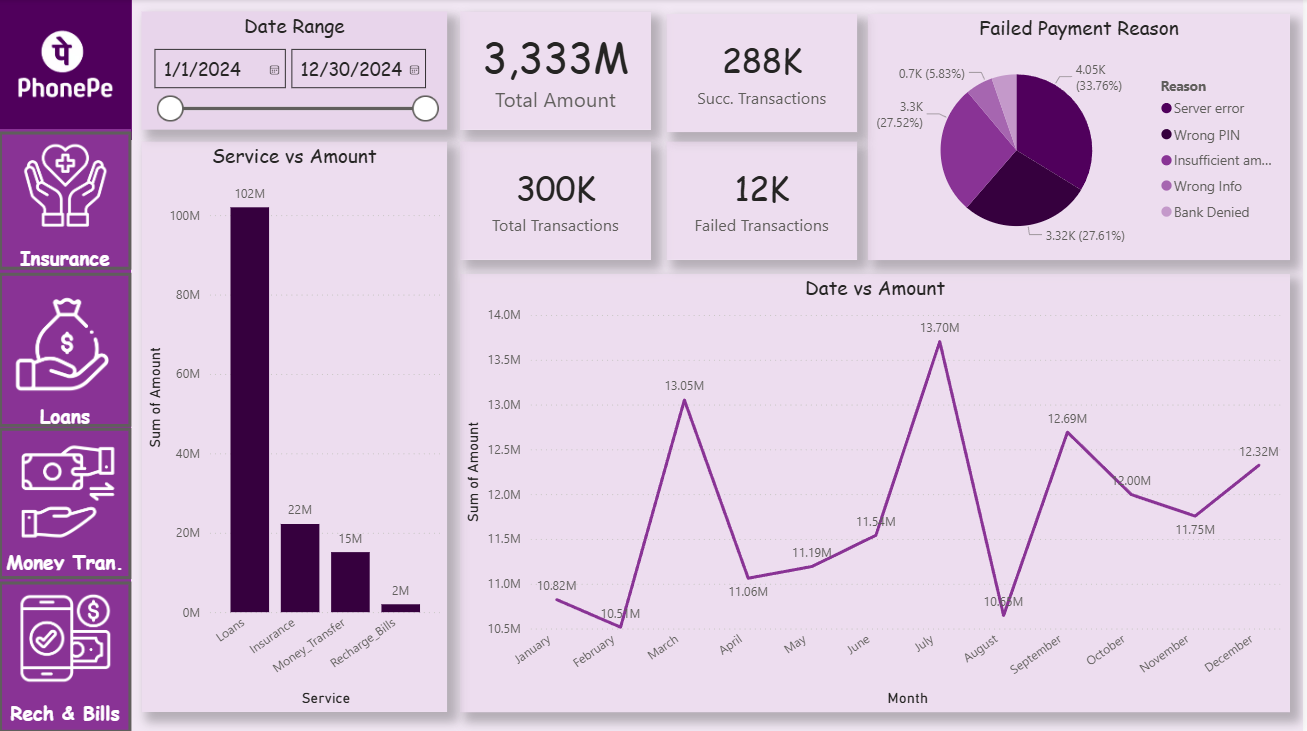

The page's visual inventory and layout, read from the dashboard file:
{"tool":"powerbi","page":{"name":"Home","canvas":[1280,720],"ordinal":0},"visuals":[{"type":"shape","box":[0,0,130,138.3],"z":0,"group":"g1"},{"type":"slicer","title":"Date Range","fields":{"Values":["All_Transactions.Date"]},"box":[140,12.9,300,115.7],"z":0},{"type":"cardVisual","title":"Total Transaction Amount","fields":{"Data":["Sum(All_Transactions.Amount)"]},"box":[452.9,12.9,187.1,115.7],"z":1000},{"type":"shape","box":[0,128.2,129.6,146.5],"z":1000,"group":"g2"},{"type":"cardVisual","title":"Total Transaction Amount","fields":{"Data":["Count(All_Transactions.Transaction_ID)"]},"box":[452.9,140,187.1,115.7],"z":2000},{"type":"shape","box":[0,266.2,129.6,162],"z":2000,"group":"g3"},{"type":"cardVisual","title":"Total Transaction Amount","fields":{"Data":["Count(All_Transactions.Transaction_ID)"]},"box":[655.7,14.3,187.1,115.7],"z":3000},{"type":"shape","box":[0,418.3,129.6,152.1],"z":3000,"group":"g4"},{"type":"cardVisual","title":"Total Transaction Amount","fields":{"Data":["Count(All_Transactions.Transaction_ID)"]},"box":[655.7,140,187.1,115.7],"z":4000},{"type":"shape","box":[0,560.6,129.6,159.2],"z":4000,"group":"g5"},{"type":"pieChart","title":"Failed Payment Reason","fields":{"Category":["All_Transactions.Reason"],"Y":["CountNonNull(All_Transactions.Reason)"]},"box":[852.9,14.3,414.3,241.4],"z":5000},{"type":"image","box":[15,15,100,103.3],"z":5000,"group":"g1"},{"type":"lineChart","title":"Date vs Amount","fields":{"Category":["All_Transactions.Date.Variation.Date Hierarchy.Month"],"Y":["Sum(All_Transactions.Amount)"]},"box":[452.9,270,814.3,430],"z":6000},{"type":"image","box":[14.1,571.9,102.8,111.3],"z":6000,"group":"g5"},{"type":"clusteredColumnChart","title":"Service vs Amount","fields":{"Y":["Sum(All_Transactions.Amount)"],"Category":["All_Transactions.Service"]},"box":[140,140,300,560],"z":7000},{"type":"image","box":[12.7,284.5,102.8,105.6],"z":7000,"group":"g3"},{"type":"group","id":"g1","title":"Group 1","box":[0,0,130,138.3],"z":8000},{"type":"image","box":[15.5,128.2,98.6,109.9],"z":8000,"group":"g2"},{"type":"group","id":"g2","title":"Group 2","box":[0,128.2,129.6,146.5],"z":9000},{"type":"image","box":[15.5,429.6,102.8,108.5],"z":9000,"group":"g4"},{"type":"textbox","box":[0,236.7,129.6,38],"z":10000,"group":"g2"},{"type":"group","id":"g3","title":"Group 3","box":[0,266.2,129.6,162],"z":10000},{"type":"textbox","box":[0,390.1,129.6,38],"z":11000,"group":"g3"},{"type":"group","id":"g4","title":"Group 4","box":[0,418.3,129.6,153.5],"z":11000},{"type":"textbox","box":[0,533.8,129.6,38],"z":12000,"group":"g4"},{"type":"group","id":"g5","title":"Group 5","box":[0,560.6,129.6,159.2],"z":12000},{"type":"actionButton","box":[0,130,130,135.7],"z":13000},{"type":"textbox","box":[0,681.7,129.6,38],"z":13000,"group":"g5"},{"type":"actionButton","box":[0,268.6,130,151.4],"z":14000},{"type":"actionButton","box":[0,421.4,130,148.6],"z":15000},{"type":"actionButton","box":[0,571.4,130,148.6],"z":16000}]}

Visuals, with their boxes on the page's 1280x720 design canvas (x1, y1, x2, y2). These are canvas units, not pixel positions in the 1307x731 screenshot, which may show the page scaled, cropped or inside an application window:
shape: {"left": 0, "top": 0, "right": 130, "bottom": 138}
"Date Range" slicer: {"left": 140, "top": 13, "right": 440, "bottom": 129}
"Total Transaction Amount" cardVisual: {"left": 453, "top": 13, "right": 640, "bottom": 129}
shape: {"left": 0, "top": 128, "right": 130, "bottom": 275}
"Total Transaction Amount" cardVisual: {"left": 453, "top": 140, "right": 640, "bottom": 256}
shape: {"left": 0, "top": 266, "right": 130, "bottom": 428}
"Total Transaction Amount" cardVisual: {"left": 656, "top": 14, "right": 843, "bottom": 130}
shape: {"left": 0, "top": 418, "right": 130, "bottom": 570}
"Total Transaction Amount" cardVisual: {"left": 656, "top": 140, "right": 843, "bottom": 256}
shape: {"left": 0, "top": 561, "right": 130, "bottom": 720}
"Failed Payment Reason" pieChart: {"left": 853, "top": 14, "right": 1267, "bottom": 256}
image: {"left": 15, "top": 15, "right": 115, "bottom": 118}
"Date vs Amount" lineChart: {"left": 453, "top": 270, "right": 1267, "bottom": 700}
image: {"left": 14, "top": 572, "right": 117, "bottom": 683}
"Service vs Amount" clusteredColumnChart: {"left": 140, "top": 140, "right": 440, "bottom": 700}
image: {"left": 13, "top": 284, "right": 116, "bottom": 390}
"Group 1" group: {"left": 0, "top": 0, "right": 130, "bottom": 138}
image: {"left": 16, "top": 128, "right": 114, "bottom": 238}
"Group 2" group: {"left": 0, "top": 128, "right": 130, "bottom": 275}
image: {"left": 16, "top": 430, "right": 118, "bottom": 538}
textbox: {"left": 0, "top": 237, "right": 130, "bottom": 275}
"Group 3" group: {"left": 0, "top": 266, "right": 130, "bottom": 428}
textbox: {"left": 0, "top": 390, "right": 130, "bottom": 428}
"Group 4" group: {"left": 0, "top": 418, "right": 130, "bottom": 572}
textbox: {"left": 0, "top": 534, "right": 130, "bottom": 572}
"Group 5" group: {"left": 0, "top": 561, "right": 130, "bottom": 720}
actionButton: {"left": 0, "top": 130, "right": 130, "bottom": 266}
textbox: {"left": 0, "top": 682, "right": 130, "bottom": 720}
actionButton: {"left": 0, "top": 269, "right": 130, "bottom": 420}
actionButton: {"left": 0, "top": 421, "right": 130, "bottom": 570}
actionButton: {"left": 0, "top": 571, "right": 130, "bottom": 720}
